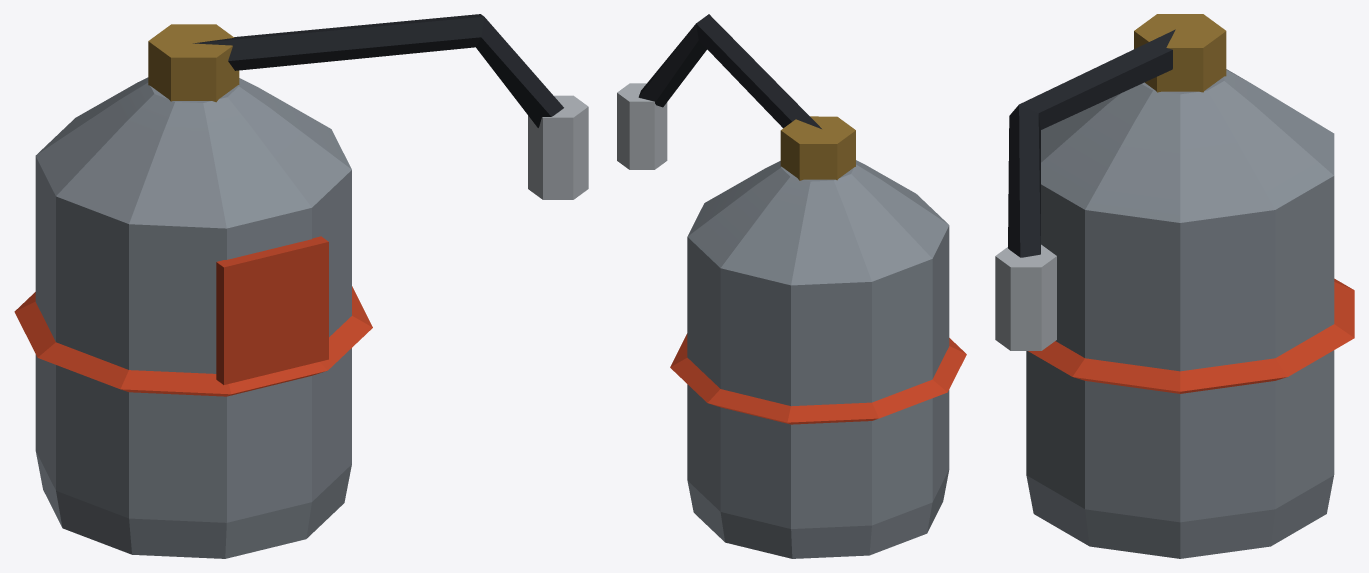
The model's file is projector-tank-incendiary.glb.
3 renders of one model, left to right at view 1: azimuth 30°, elevation 25°; view 2: azimuth 150°, elevation 25°; view 3: azimuth 270°, elevation 25°, orthographic. The views are drawn at different scales.
Parts seen in each view (by area): view 1: m; view 2: m; view 3: m.
Part boxes in pixels (box(x1,y1,x2,y2)): m: box(14, 14, 588, 558); m: box(617, 14, 966, 558); m: box(995, 14, 1354, 558).
Bounding box in the file's own units: 0.1158 × 0.115 × 0.0758.
